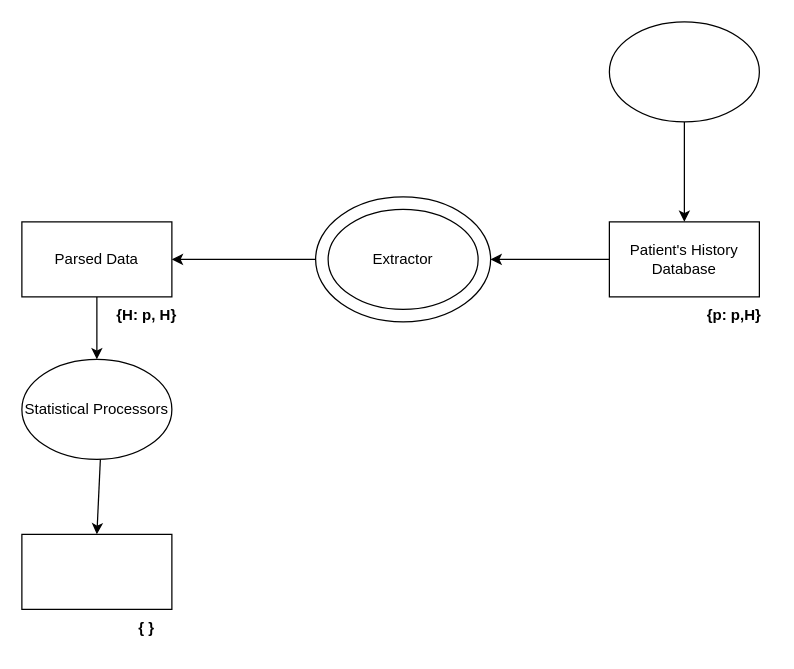
This 794x669 diagram has some shape labels left out. The centre of each missing label's shape, as x and y in pixels:
Hospital: [683,71]
Statistical Results: [96,571]
